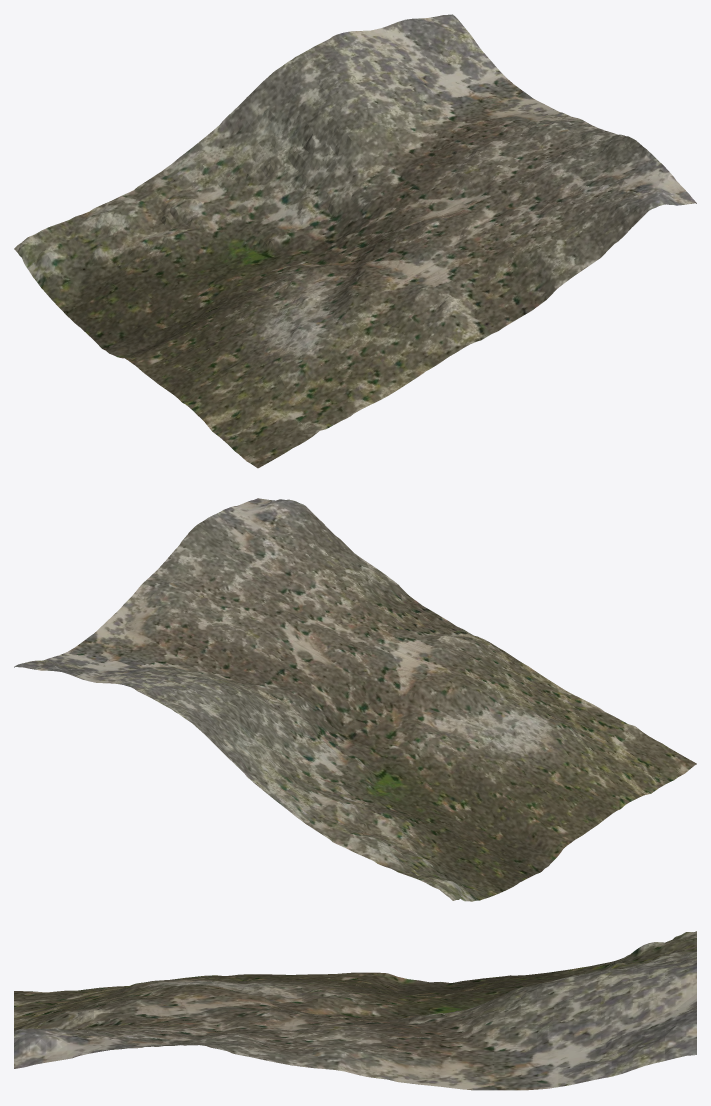
The picture shows the model from 3 angles, top to bottom: view 1: azimuth 30°, elevation 25°; view 2: azimuth 150°, elevation 25°; view 3: azimuth 270°, elevation 25°; orthographic projection. The views are drawn at different scales.
Size of the model in its own units: 500 by 195 by 481.
1 material, 1 textured.
